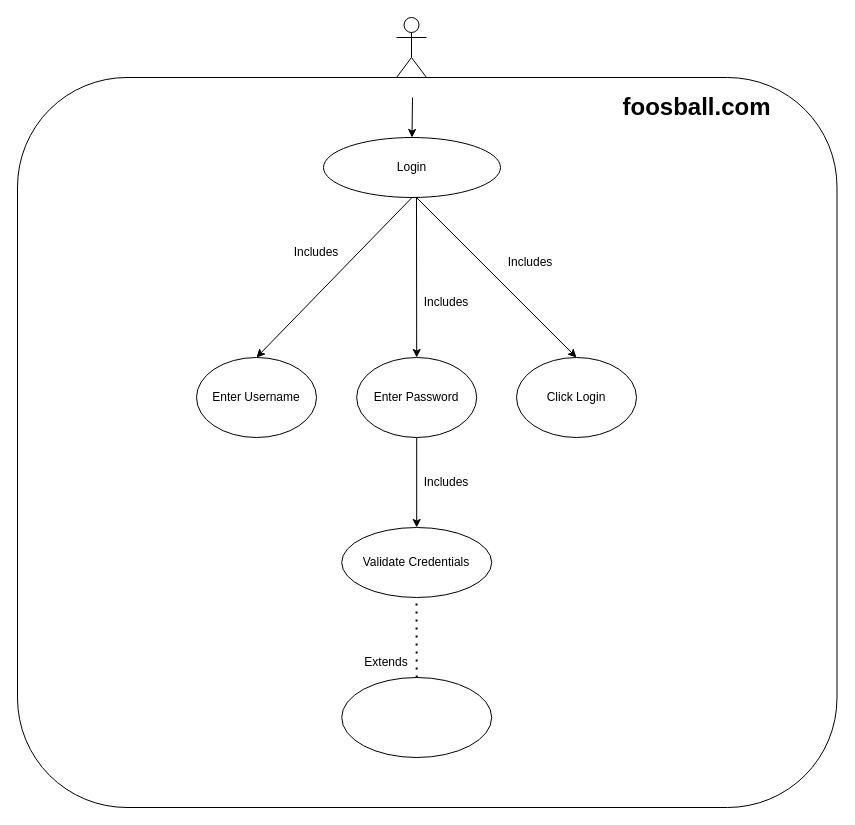
This 855x825 diagram has some shape labels left out. Each missing label, with the box of its shape:
Error Message: (341, 676, 492, 758)
User: (396, 16, 426, 78)
